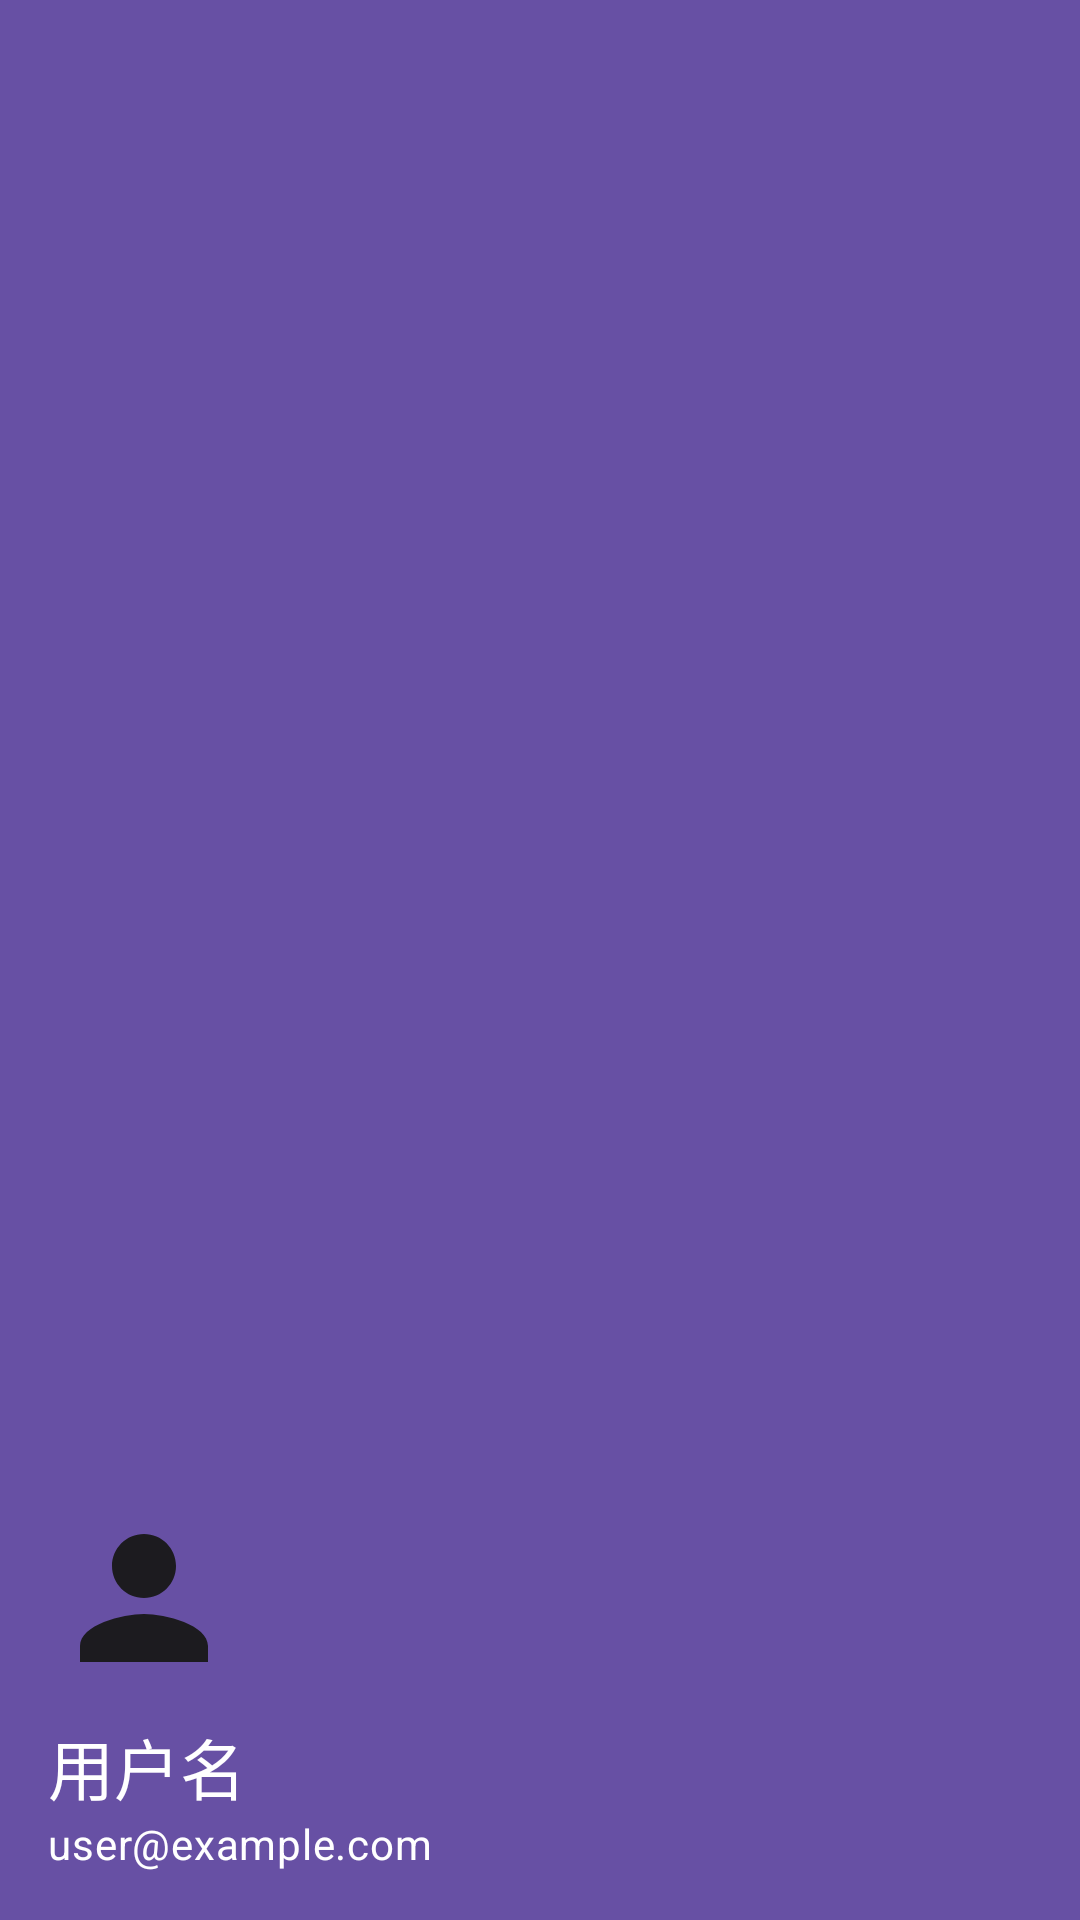

Screen size 1080w x 1920h. Icon name, then its box in pixels as {"x1": x1, "y1": y1, "x2": x2, "y2": y2}:
用户头像: {"x1": 80, "y1": 1534, "x2": 208, "y2": 1662}
